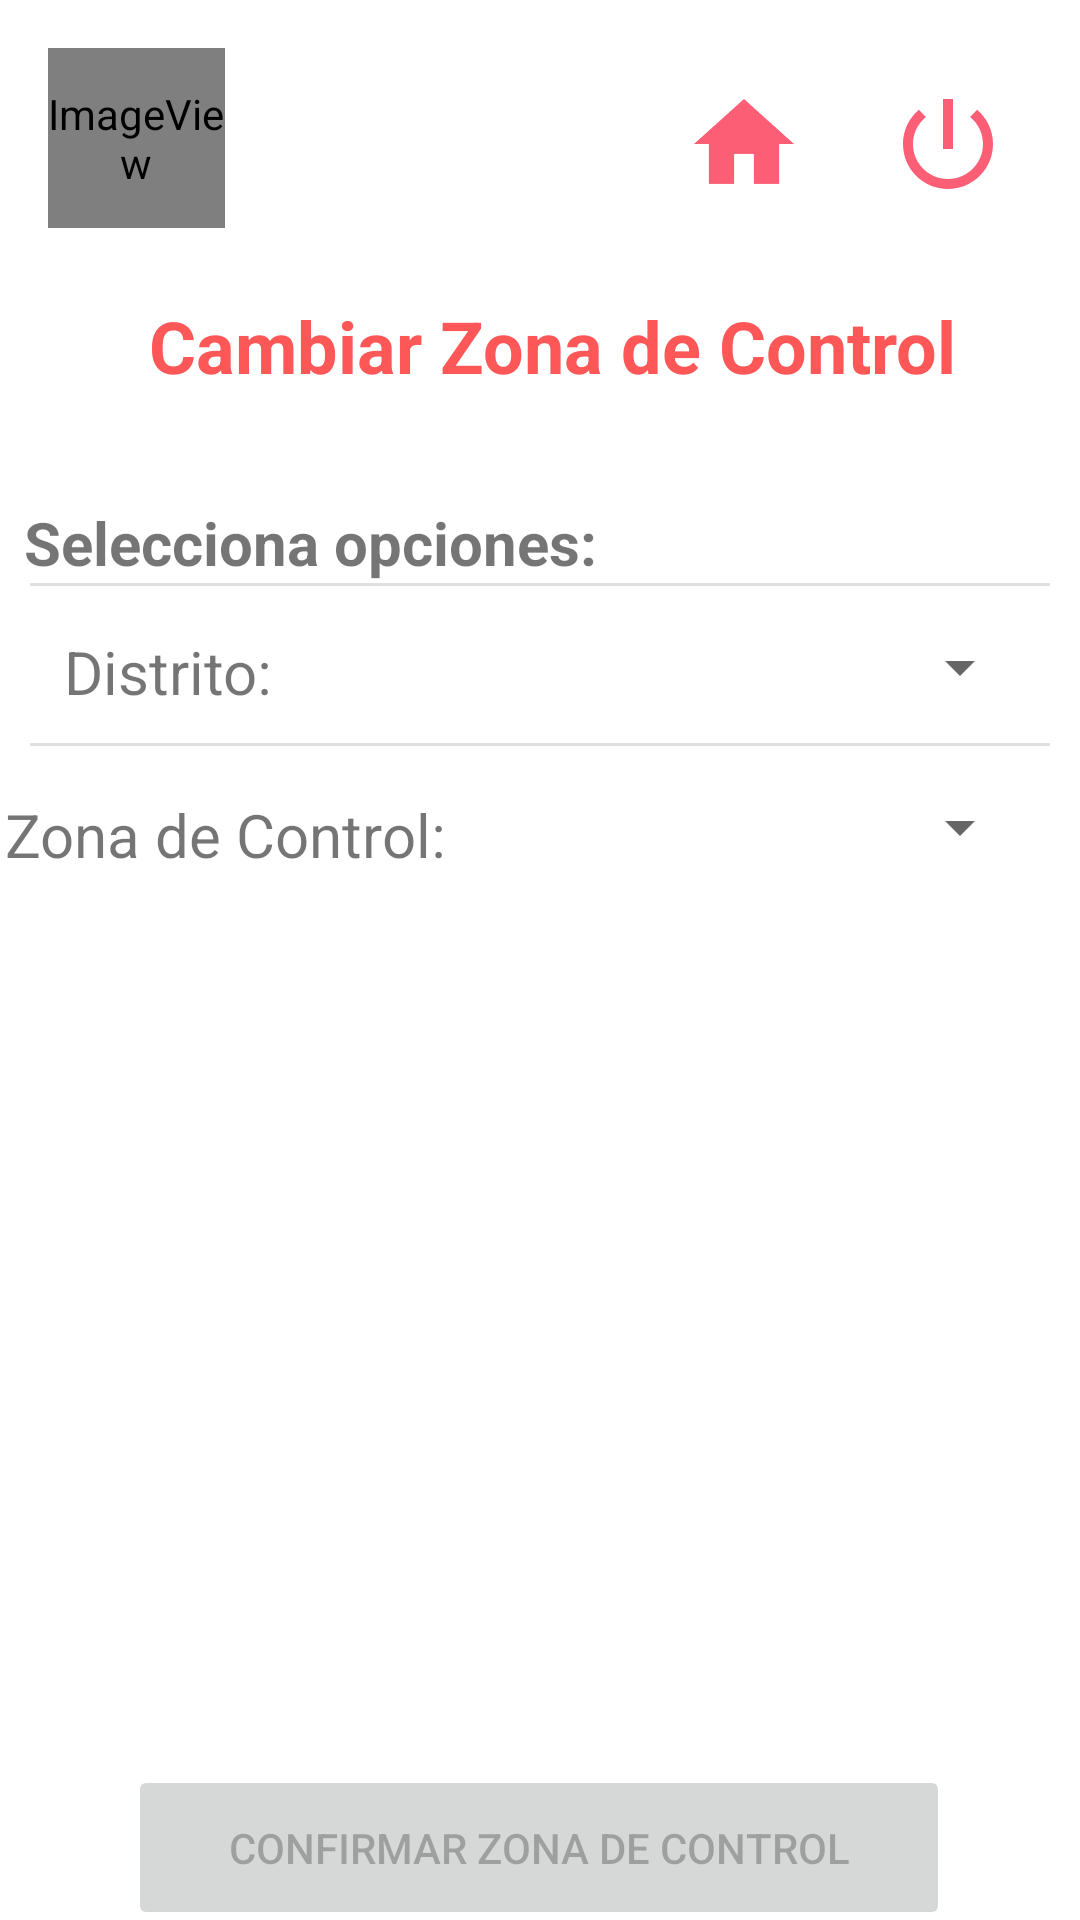

Icon click points for this 1080px×1920px phone screenshot, format [x,y]:
homescreen: [744,141]
